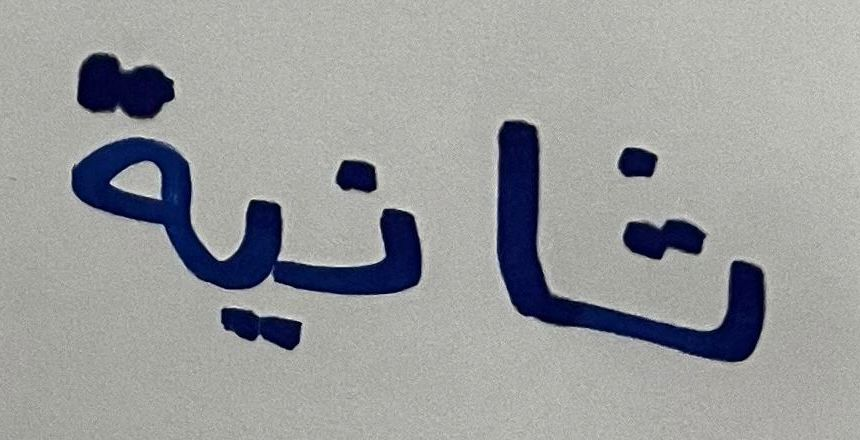alef: (578, 114, 787, 424), (468, 90, 570, 373)
noon: (308, 125, 455, 348)
teh_marbota: (22, 22, 196, 311)
yeh: (201, 153, 304, 407)
